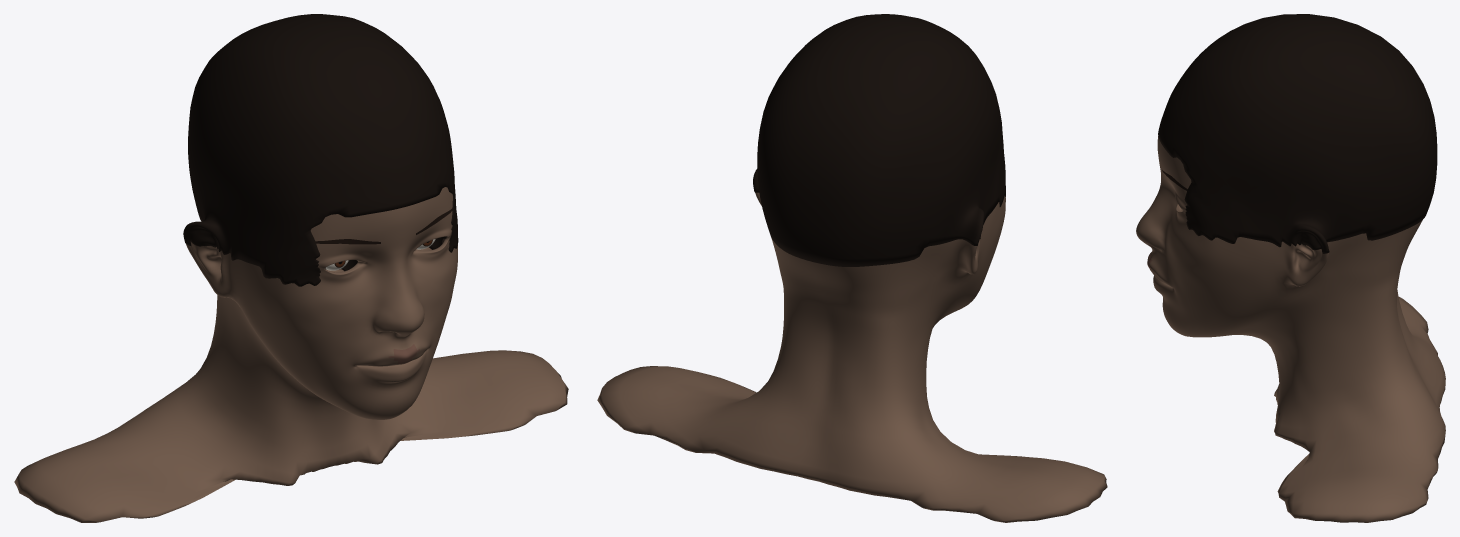
File: GenericHead.glb
3 views of the same model, side by side, from view 1: azimuth 30°, elevation 25°; view 2: azimuth 150°, elevation 25°; view 3: azimuth 270°, elevation 25° (orthographic). The views are drawn at different scales.
Parts seen in each view (by area): view 1: GenericAdultHeadAndNeck, ShortHairScalpShell; view 2: GenericAdultHeadAndNeck, ShortHairScalpShell; view 3: GenericAdultHeadAndNeck, ShortHairScalpShell.
Boxes of the visible parts, x1,y1,x2,y2 form: GenericAdultHeadAndNeck: (14, 187, 568, 522); ShortHairScalpShell: (183, 14, 458, 286); GenericAdultHeadAndNeck: (597, 192, 1107, 522); ShortHairScalpShell: (753, 14, 1005, 266); GenericAdultHeadAndNeck: (1136, 136, 1445, 522); ShortHairScalpShell: (1158, 14, 1437, 253).
Size of the model in its own units: 0.3818 by 0.3014 by 0.217.
